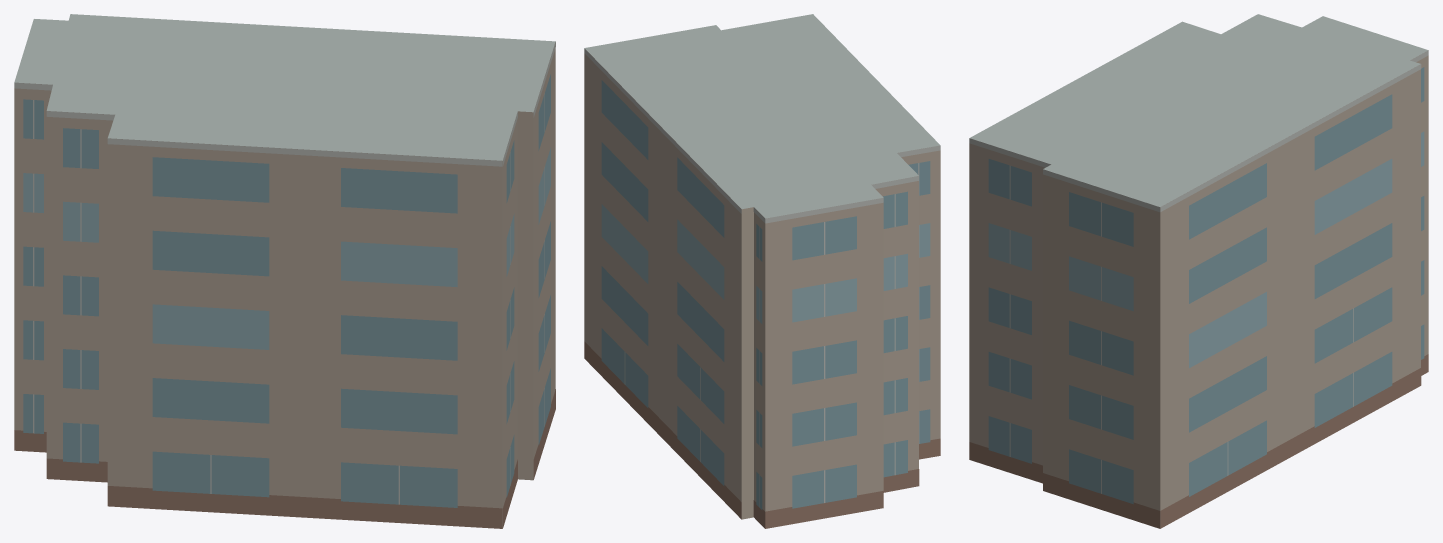
The model's file is survey-upis-32554729.glb.
3 views of the same model, side by side, from view 1: azimuth 30°, elevation 25°; view 2: azimuth 150°, elevation 25°; view 3: azimuth 270°, elevation 25° (orthographic). The views are drawn at different scales.
Visible parts, largest first — view 1: survey-upis-32554729.tmp; view 2: survey-upis-32554729.tmp; view 3: survey-upis-32554729.tmp.
Part boxes in pixels (<box>): survey-upis-32554729.tmp: <box>14,14,555,528</box>; survey-upis-32554729.tmp: <box>584,14,940,528</box>; survey-upis-32554729.tmp: <box>969,14,1428,528</box>.
Size of the model in its own units: 19.65 by 15.25 by 19.74.
